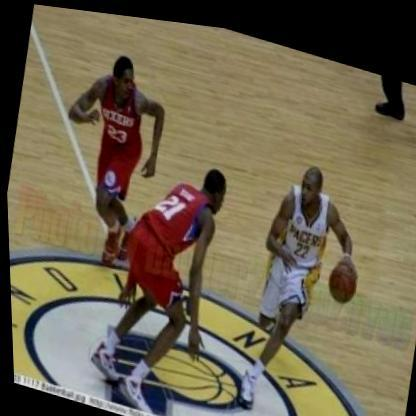basketball: (317, 245, 361, 302)
